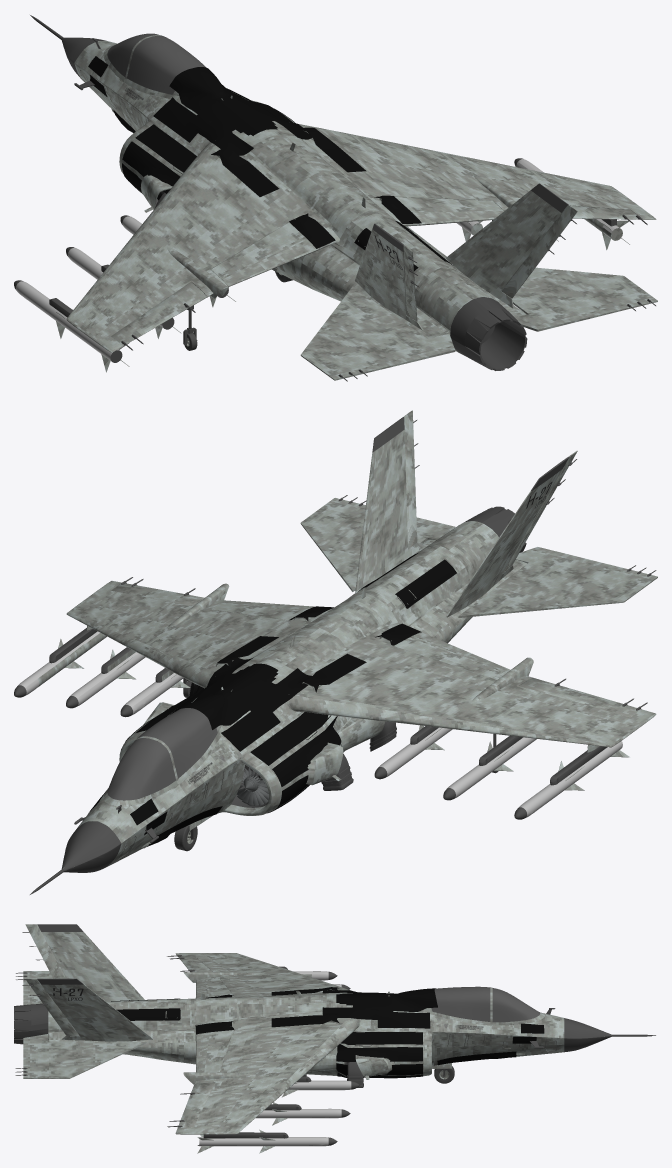
The model's file is jetmodel2.glb.
3 views of the same model, one above another, from view 1: azimuth 30°, elevation 25°; view 2: azimuth 150°, elevation 25°; view 3: azimuth 270°, elevation 25° (orthographic). The views are drawn at different scales.
Parts seen in each view (by area): view 1: HydraHull, HydraSteaks; view 2: HydraHull, HydraSteaks; view 3: HydraHull, HydraSteaks.
Boxes of the visible parts, x1,y1,x2,y2 form: HydraHull: [14, 15, 657, 381]; HydraSteaks: [88, 56, 455, 271]; HydraHull: [14, 410, 657, 894]; HydraSteaks: [89, 553, 456, 848]; HydraHull: [14, 924, 655, 1153]; HydraSteaks: [111, 987, 544, 1078].
Size of what is drawn, in the model's own units: 11.22 by 3.79 by 16.87.
Materials: 12 (2 with a texture image).
